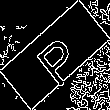P_NW: (26, 24, 84, 86)
